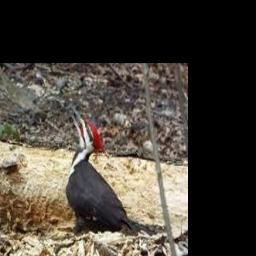Woodpecker: (65, 107, 157, 236)
